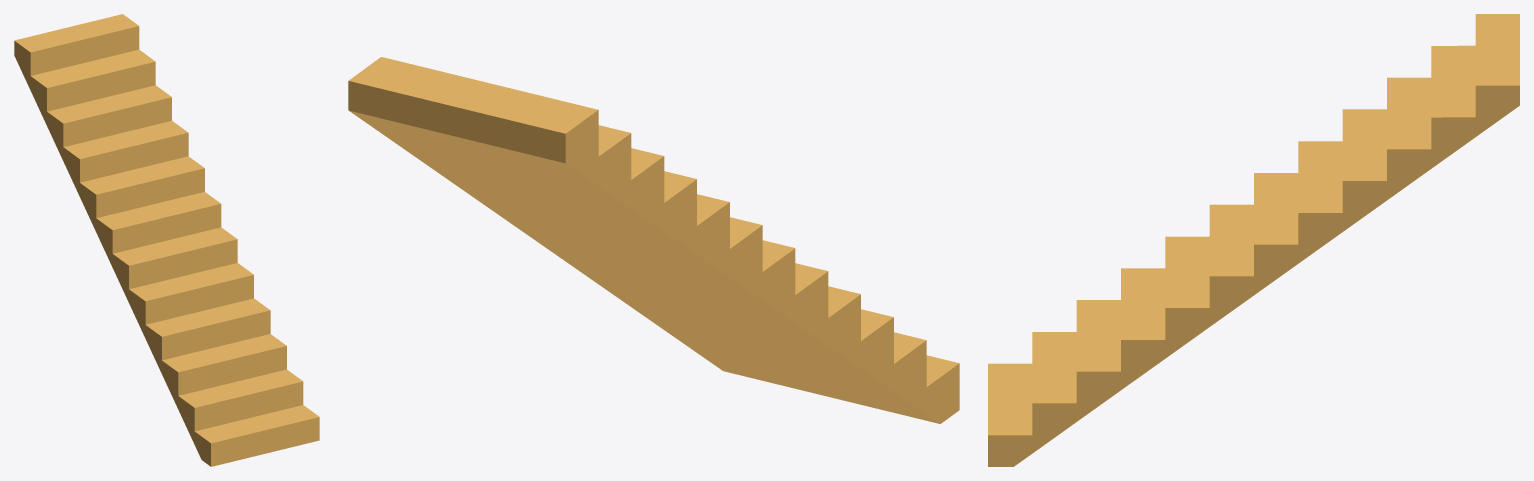
The model's file is Stairs_028.glb.
The picture shows the model from 3 angles, left to right: view 1: azimuth 30°, elevation 25°; view 2: azimuth 150°, elevation 25°; view 3: azimuth 270°, elevation 25°; orthographic projection. The views are drawn at different scales.
Visible parts, largest first — view 1: Stairs_028; view 2: Stairs_028; view 3: Stairs_028.
Part boxes in pixels (box(x1,y1,x2,y2)): Stairs_028: box(14, 14, 319, 466); Stairs_028: box(348, 57, 959, 423); Stairs_028: box(988, 14, 1519, 466).
Bounding box in the file's own units: 1.62 × 4.02 × 5.08.
1 material, 1 textured.
